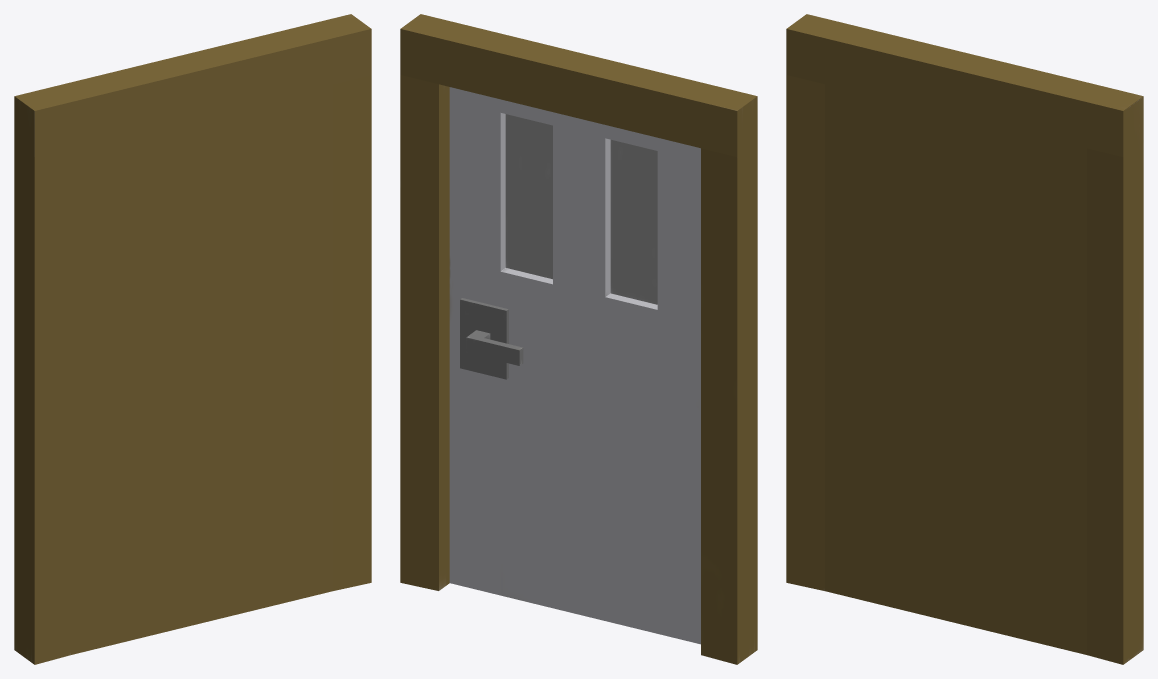
The model's file is doors.fbx.
3 renders of one model, left to right at view 1: azimuth 30°, elevation 25°; view 2: azimuth 150°, elevation 25°; view 3: azimuth 330°, elevation 25°, orthographic.
Parts seen in each view (by area): view 1: Cube; view 2: Cube; view 3: Cube.
Boxes of the visible parts, x1,y1,x2,y2 form: Cube: (14, 14, 371, 664); Cube: (400, 14, 757, 664); Cube: (786, 14, 1143, 664).
Bounding box in the file's own units: 776 × 1220 × 82.17.
